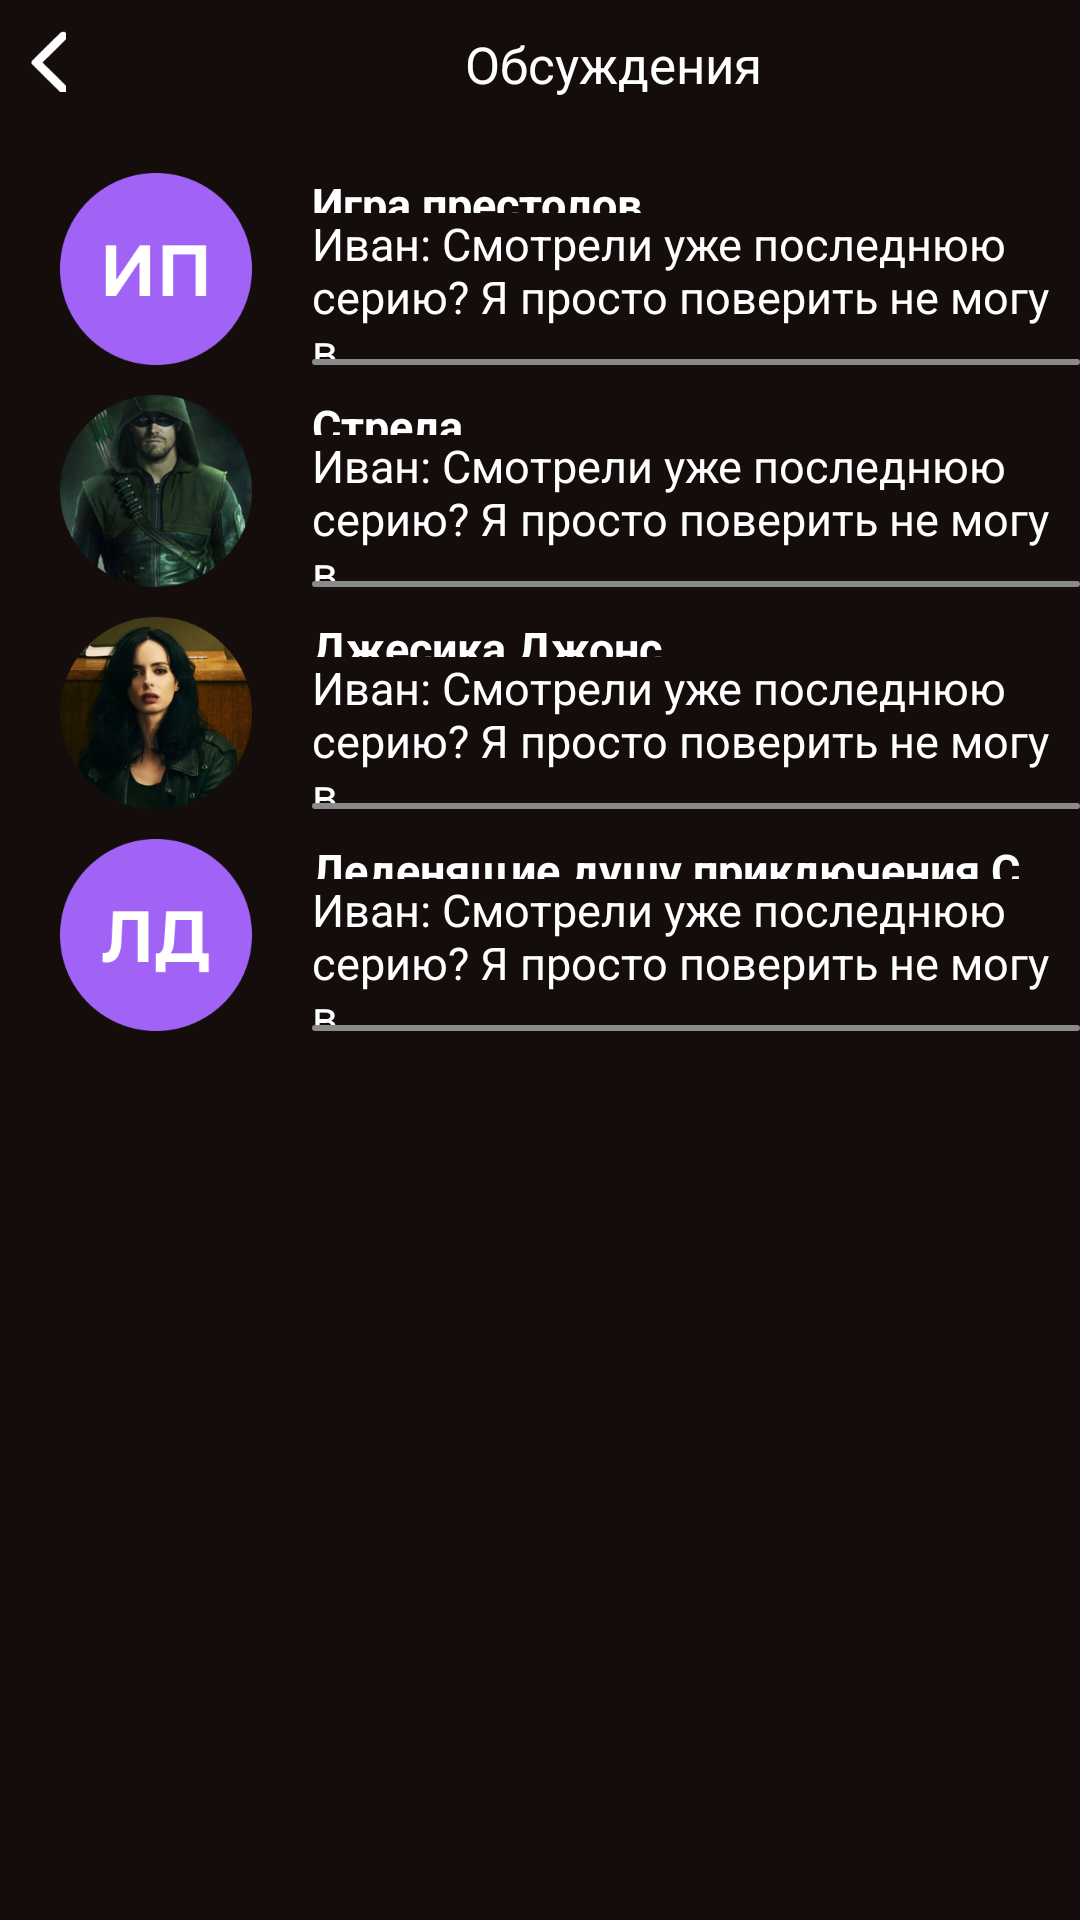

Where icons sit on this 1080px x 1920px app screen, as (x1, y1, x2, y2):
arrow back: (31, 31, 66, 92)
